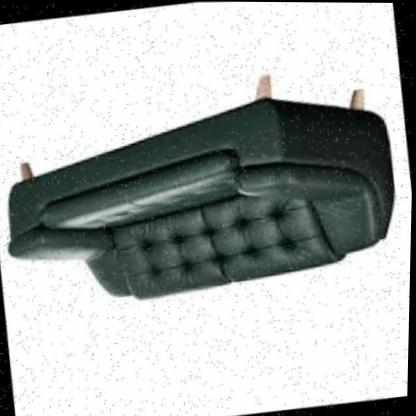Sofa: (0, 47, 412, 326)
